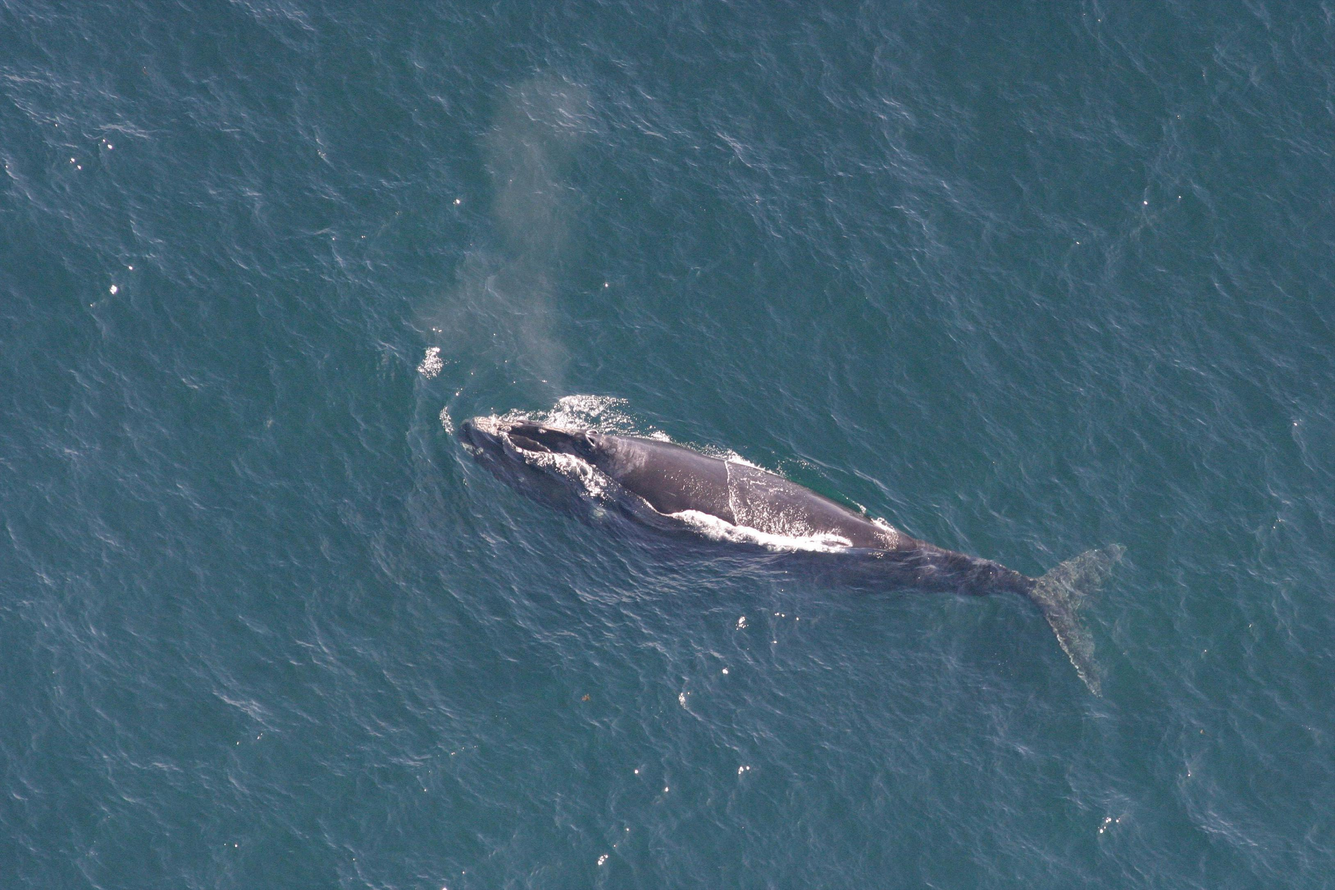whale: (452, 402, 1137, 707)
